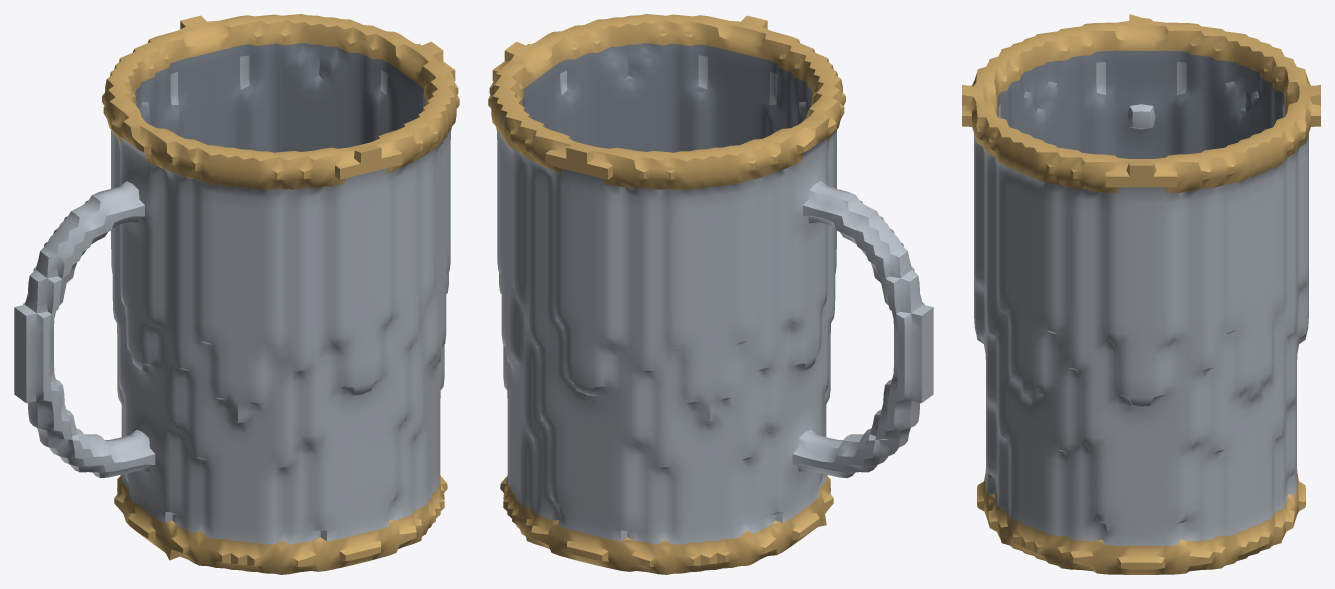
The model's file is prop_cup_tankard.glb.
The picture shows the model from 3 angles, left to right: view 1: azimuth 30°, elevation 25°; view 2: azimuth 150°, elevation 25°; view 3: azimuth 270°, elevation 25°; orthographic projection.
Visible parts, largest first — view 1: town_prop_cup_tankard; view 2: town_prop_cup_tankard; view 3: town_prop_cup_tankard.
Boxes of the visible parts, box(x1,y1,x2,y2) form: town_prop_cup_tankard: box(14, 14, 459, 574); town_prop_cup_tankard: box(488, 14, 933, 574); town_prop_cup_tankard: box(962, 14, 1320, 574).
Size of the model in its own units: 0.2083 by 0.2031 by 0.1562.
